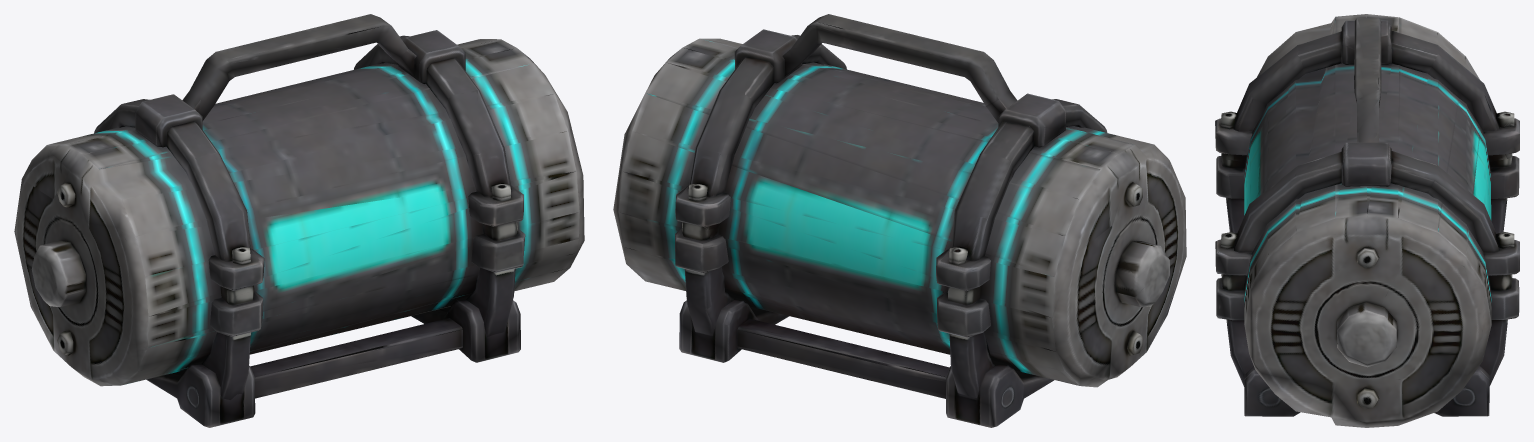
Rendered from loot_laser.glb.
3 renders of one model, left to right at view 1: azimuth 30°, elevation 25°; view 2: azimuth 150°, elevation 25°; view 3: azimuth 270°, elevation 25°, orthographic. The views are drawn at different scales.
Visible parts, largest first — view 1: geometry_0; view 2: geometry_0; view 3: geometry_0.
Boxes of the visible parts, x1,y1,x2,y2 form: geometry_0: (14,14,584,427); geometry_0: (613,14,1186,427); geometry_0: (1215,14,1519,427).
Bounding box in the file's own units: 0.9575 × 0.5498 × 0.5215.
1 material, 1 textured.
